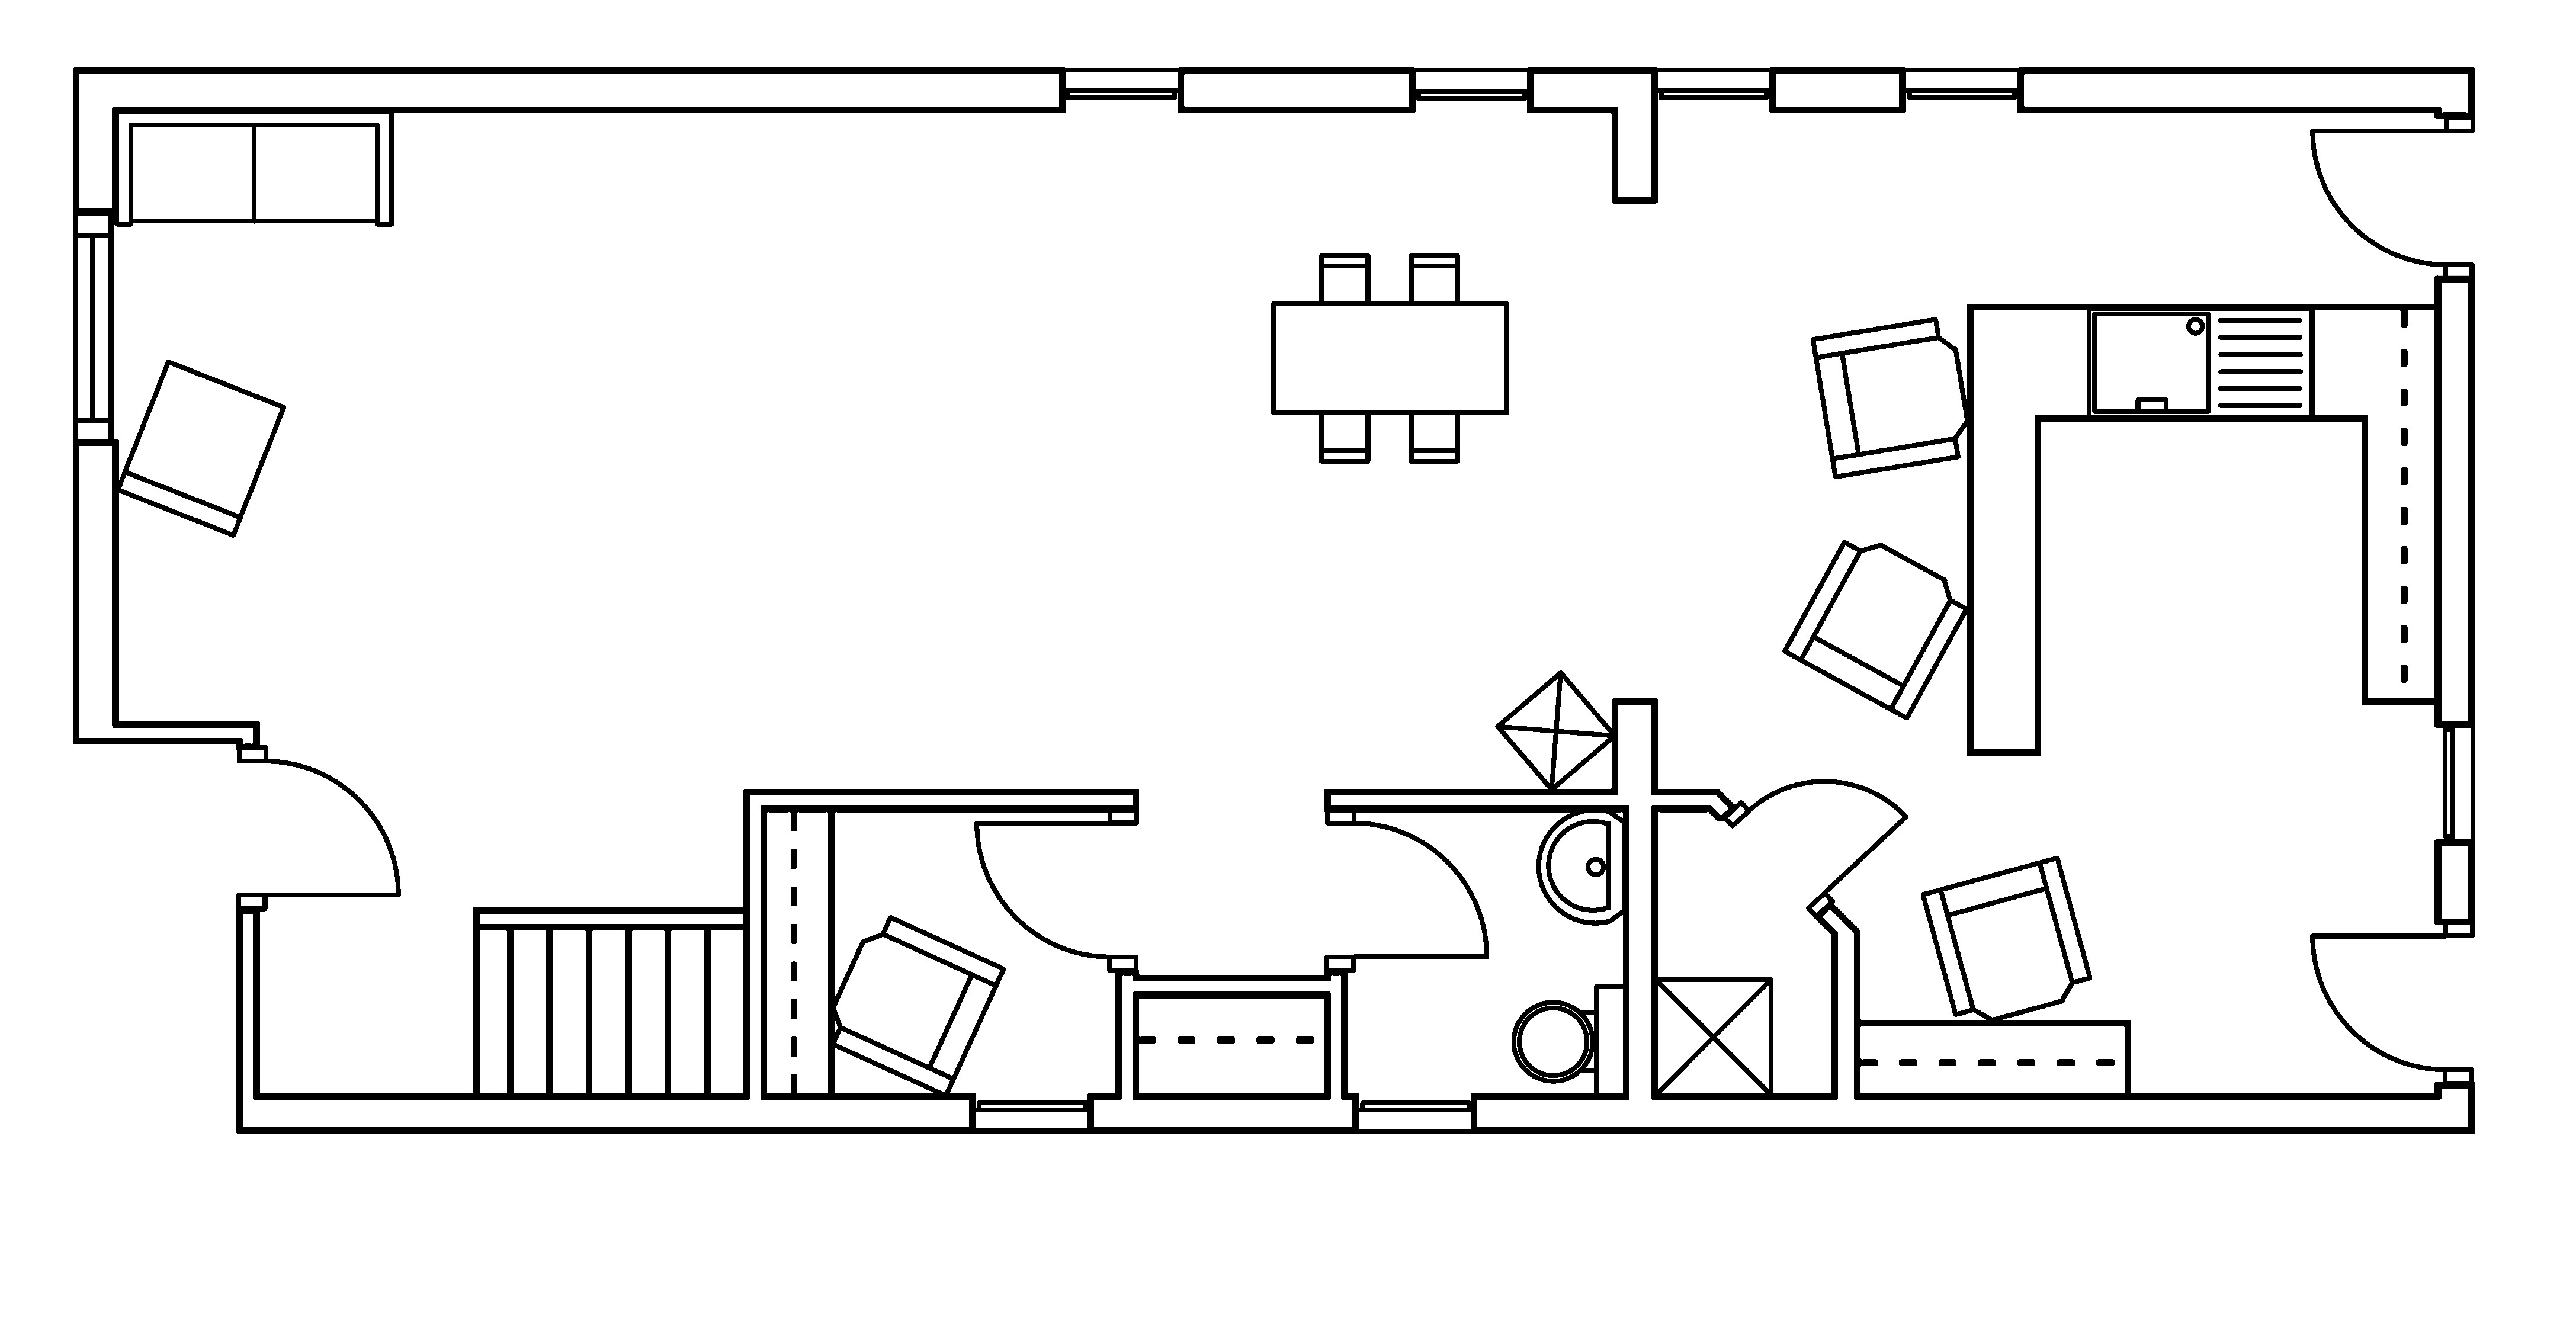armchair: (1781, 538, 1969, 720), (829, 914, 1006, 1099), (1919, 855, 2092, 1023), (1809, 316, 1971, 479)
coffee_table: (1493, 670, 1618, 792), (1651, 976, 1774, 1097)
dining_table: (1270, 252, 1510, 464)
large_sink: (1512, 983, 1628, 1097)
large_sofa: (113, 108, 395, 227)
sink: (2085, 305, 2314, 421)
small_sink: (1535, 808, 1628, 925)
small_sofa: (114, 358, 286, 538)
